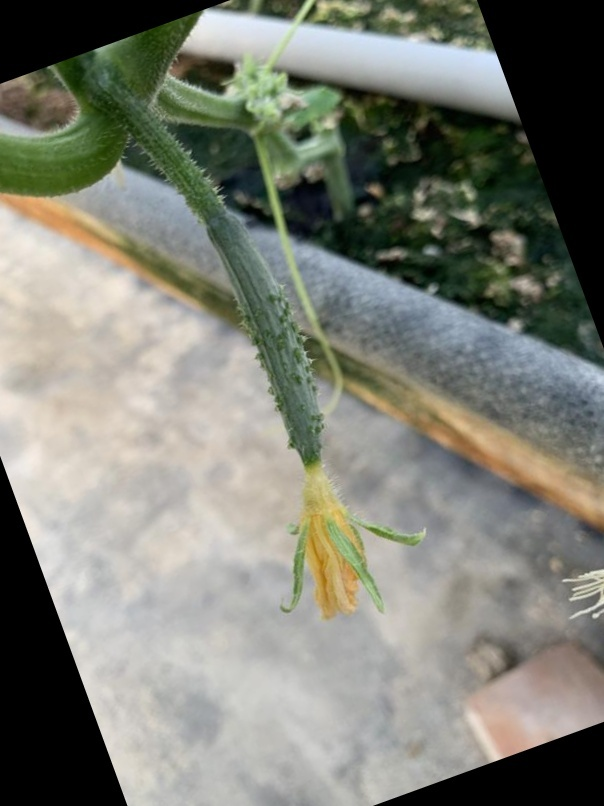bear: (188, 199, 413, 626)
